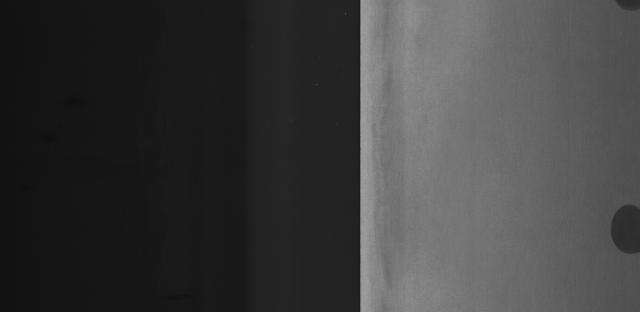oil_spot: (598, 186, 640, 270), (606, 0, 640, 20)
